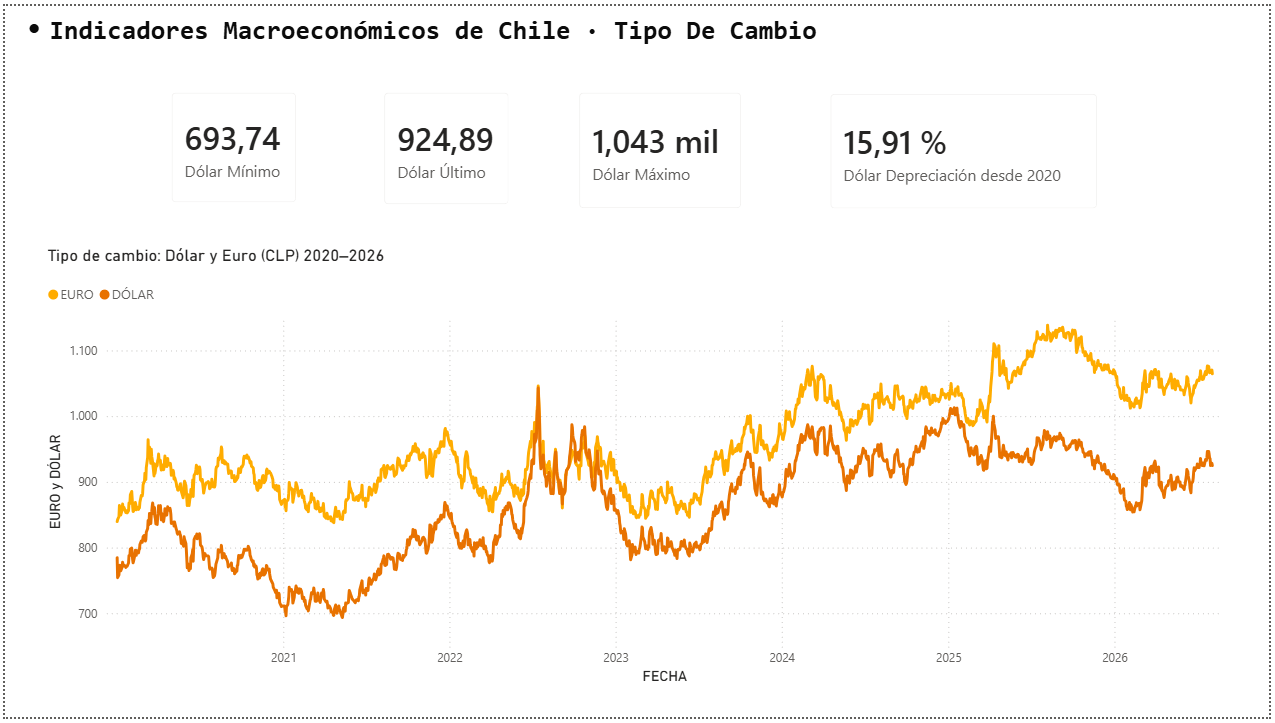

The dashboard page shown, as its layout file describes it:
{"tool":"powerbi","page":{"name":"Tipo de Cambio","canvas":[1280,720],"ordinal":2},"visuals":[{"type":"lineChart","title":"Tipo de cambio: Dólar y Euro (CLP) 2020–2026","fields":{"Category":["calendario.fecha"],"Y":["Sum(euro.valor)","Sum(dolar.valor)"]},"box":[38.6,241.4,1202.9,450],"z":0},{"type":"cardVisual","fields":{"Data":["dolar.Dólar Último"]},"box":[367.4,70.9,160,147.1],"z":1000},{"type":"cardVisual","fields":{"Data":["dolar.Dólar Máximo"]},"box":[564.6,70.9,198,151],"z":2000},{"type":"cardVisual","fields":{"Data":["dolar.Dólar Mínimo"]},"box":[151.7,70.9,160,145.7],"z":3000},{"type":"cardVisual","fields":{"Data":["dolar.Dólar Depreciación desde 2020"]},"box":[818.9,72.3,304.3,150],"z":4000},{"type":"textbox","box":[0,0,901.4,55.7],"z":5000}]}

Visuals, with their boxes in screenshot pixels (x1, y1, x2, y2), scaled from the page's 1280x720 canvas onto the 1275x723 screenshot:
"Tipo de cambio: Dólar y Euro (CLP) 2020–2026" lineChart: [38, 242, 1237, 694]
cardVisual - dolar.Dólar Último: [366, 71, 525, 219]
cardVisual - dolar.Dólar Máximo: [562, 71, 760, 223]
cardVisual - dolar.Dólar Mínimo: [151, 71, 310, 218]
cardVisual - dolar.Dólar Depreciación desde 2020: [816, 73, 1119, 223]
textbox: [0, 0, 898, 56]
